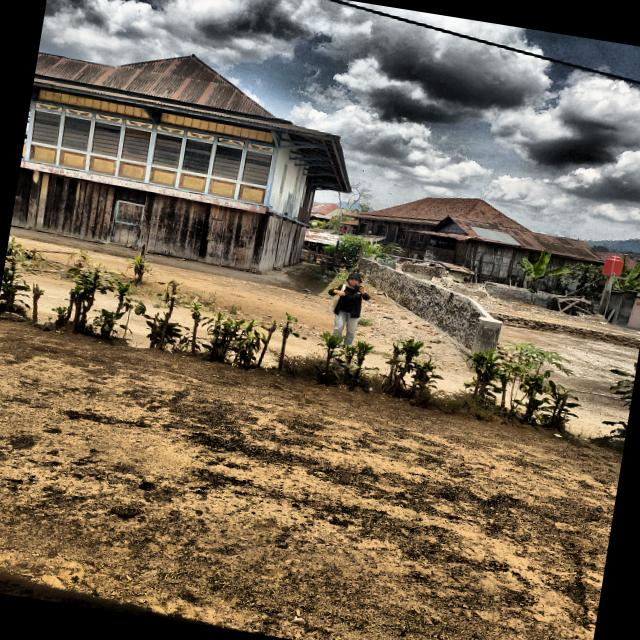column: (249, 211, 274, 272)
door: (110, 197, 145, 249)
ornamen: (237, 183, 266, 205), (207, 178, 236, 199), (89, 155, 117, 176), (29, 144, 57, 165), (178, 173, 207, 193), (118, 161, 147, 181), (149, 167, 177, 187), (59, 150, 86, 170)
roof: (33, 52, 352, 195), (402, 215, 606, 264), (342, 197, 533, 232), (311, 202, 340, 215)
wall: (11, 167, 260, 270), (149, 112, 275, 205), (29, 89, 153, 181), (268, 148, 317, 225), (472, 241, 541, 282), (259, 214, 307, 272), (425, 239, 477, 270)
window: (241, 150, 273, 186), (212, 144, 243, 181), (121, 126, 152, 163), (181, 139, 212, 175), (152, 132, 182, 169), (91, 121, 121, 158), (61, 115, 91, 152), (32, 109, 61, 146)
